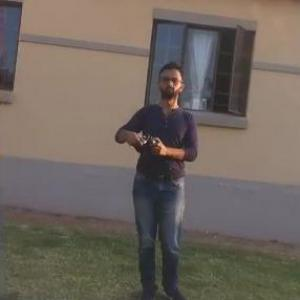follow: (111, 57, 206, 299)
